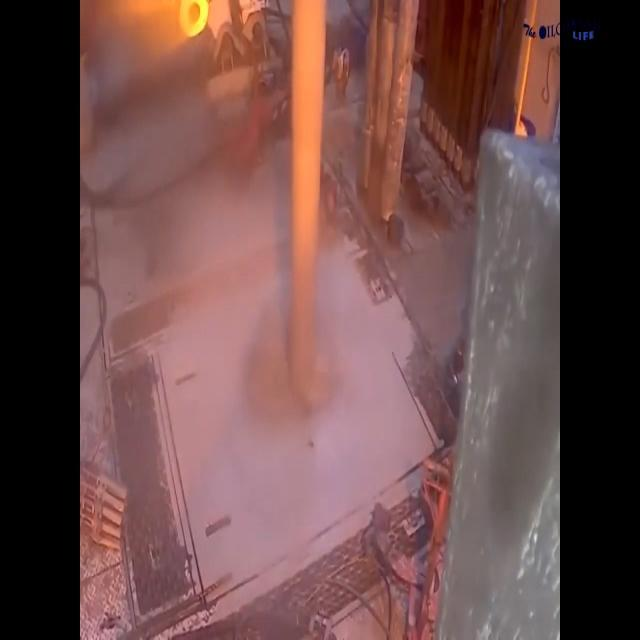spillage: (150, 221, 440, 616), (247, 290, 347, 446)
